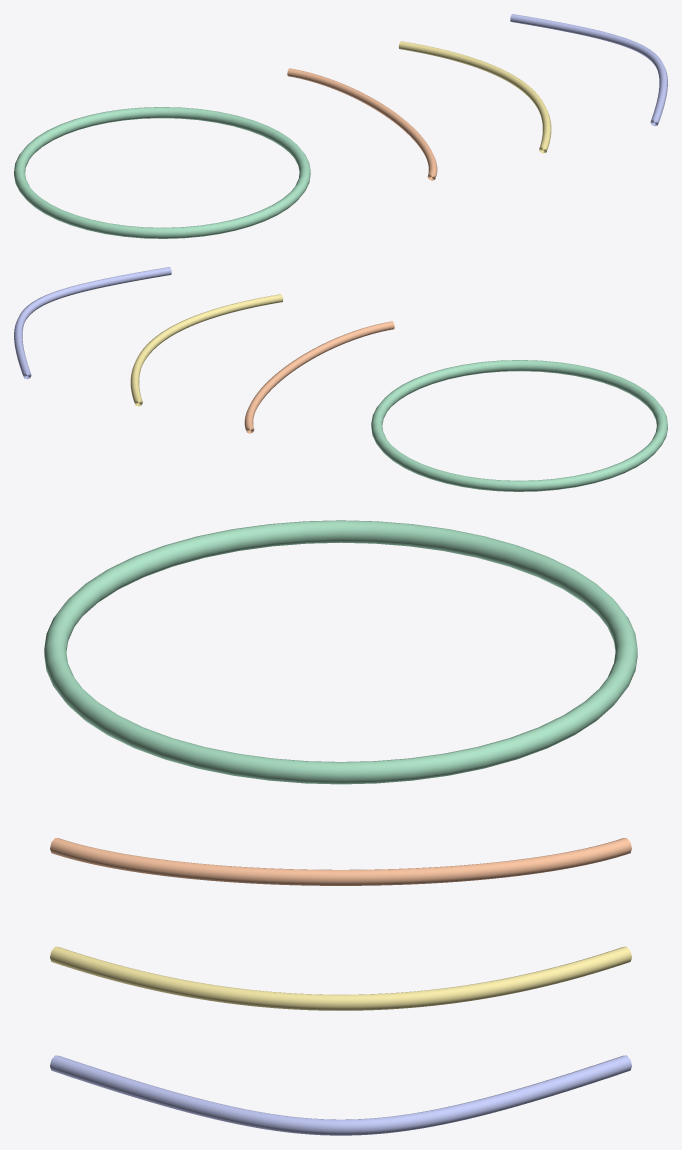
The model's file is example.gltf.
3 views of the same model, one above another, from view 1: azimuth 30°, elevation 25°; view 2: azimuth 150°, elevation 25°; view 3: azimuth 270°, elevation 25° (orthographic). The views are drawn at different scales.
Visible parts, largest first — view 1: nurbs_circle, conic_2, conic_1, conic_0_5; view 2: nurbs_circle, conic_2, conic_1, conic_0_5; view 3: nurbs_circle, conic_2, conic_1, conic_0_5.
Boxes of the visible parts, x1,y1,x2,y2 form: nurbs_circle: (14, 107, 310, 238); conic_2: (510, 14, 667, 126); conic_1: (398, 41, 551, 153); conic_0_5: (287, 68, 437, 180); nurbs_circle: (371, 360, 667, 491); conic_2: (14, 267, 171, 379); conic_1: (130, 294, 283, 406); conic_0_5: (244, 321, 394, 433); nurbs_circle: (44, 520, 637, 784); conic_2: (50, 1055, 631, 1135); conic_1: (50, 946, 631, 1010); conic_0_5: (50, 838, 631, 885).
Bounding box in the file's own units: 5 × 0.08 × 2.08.
